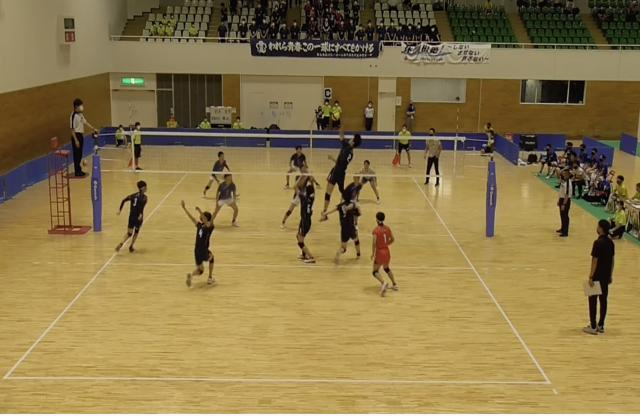spike: (320, 107, 364, 222)
